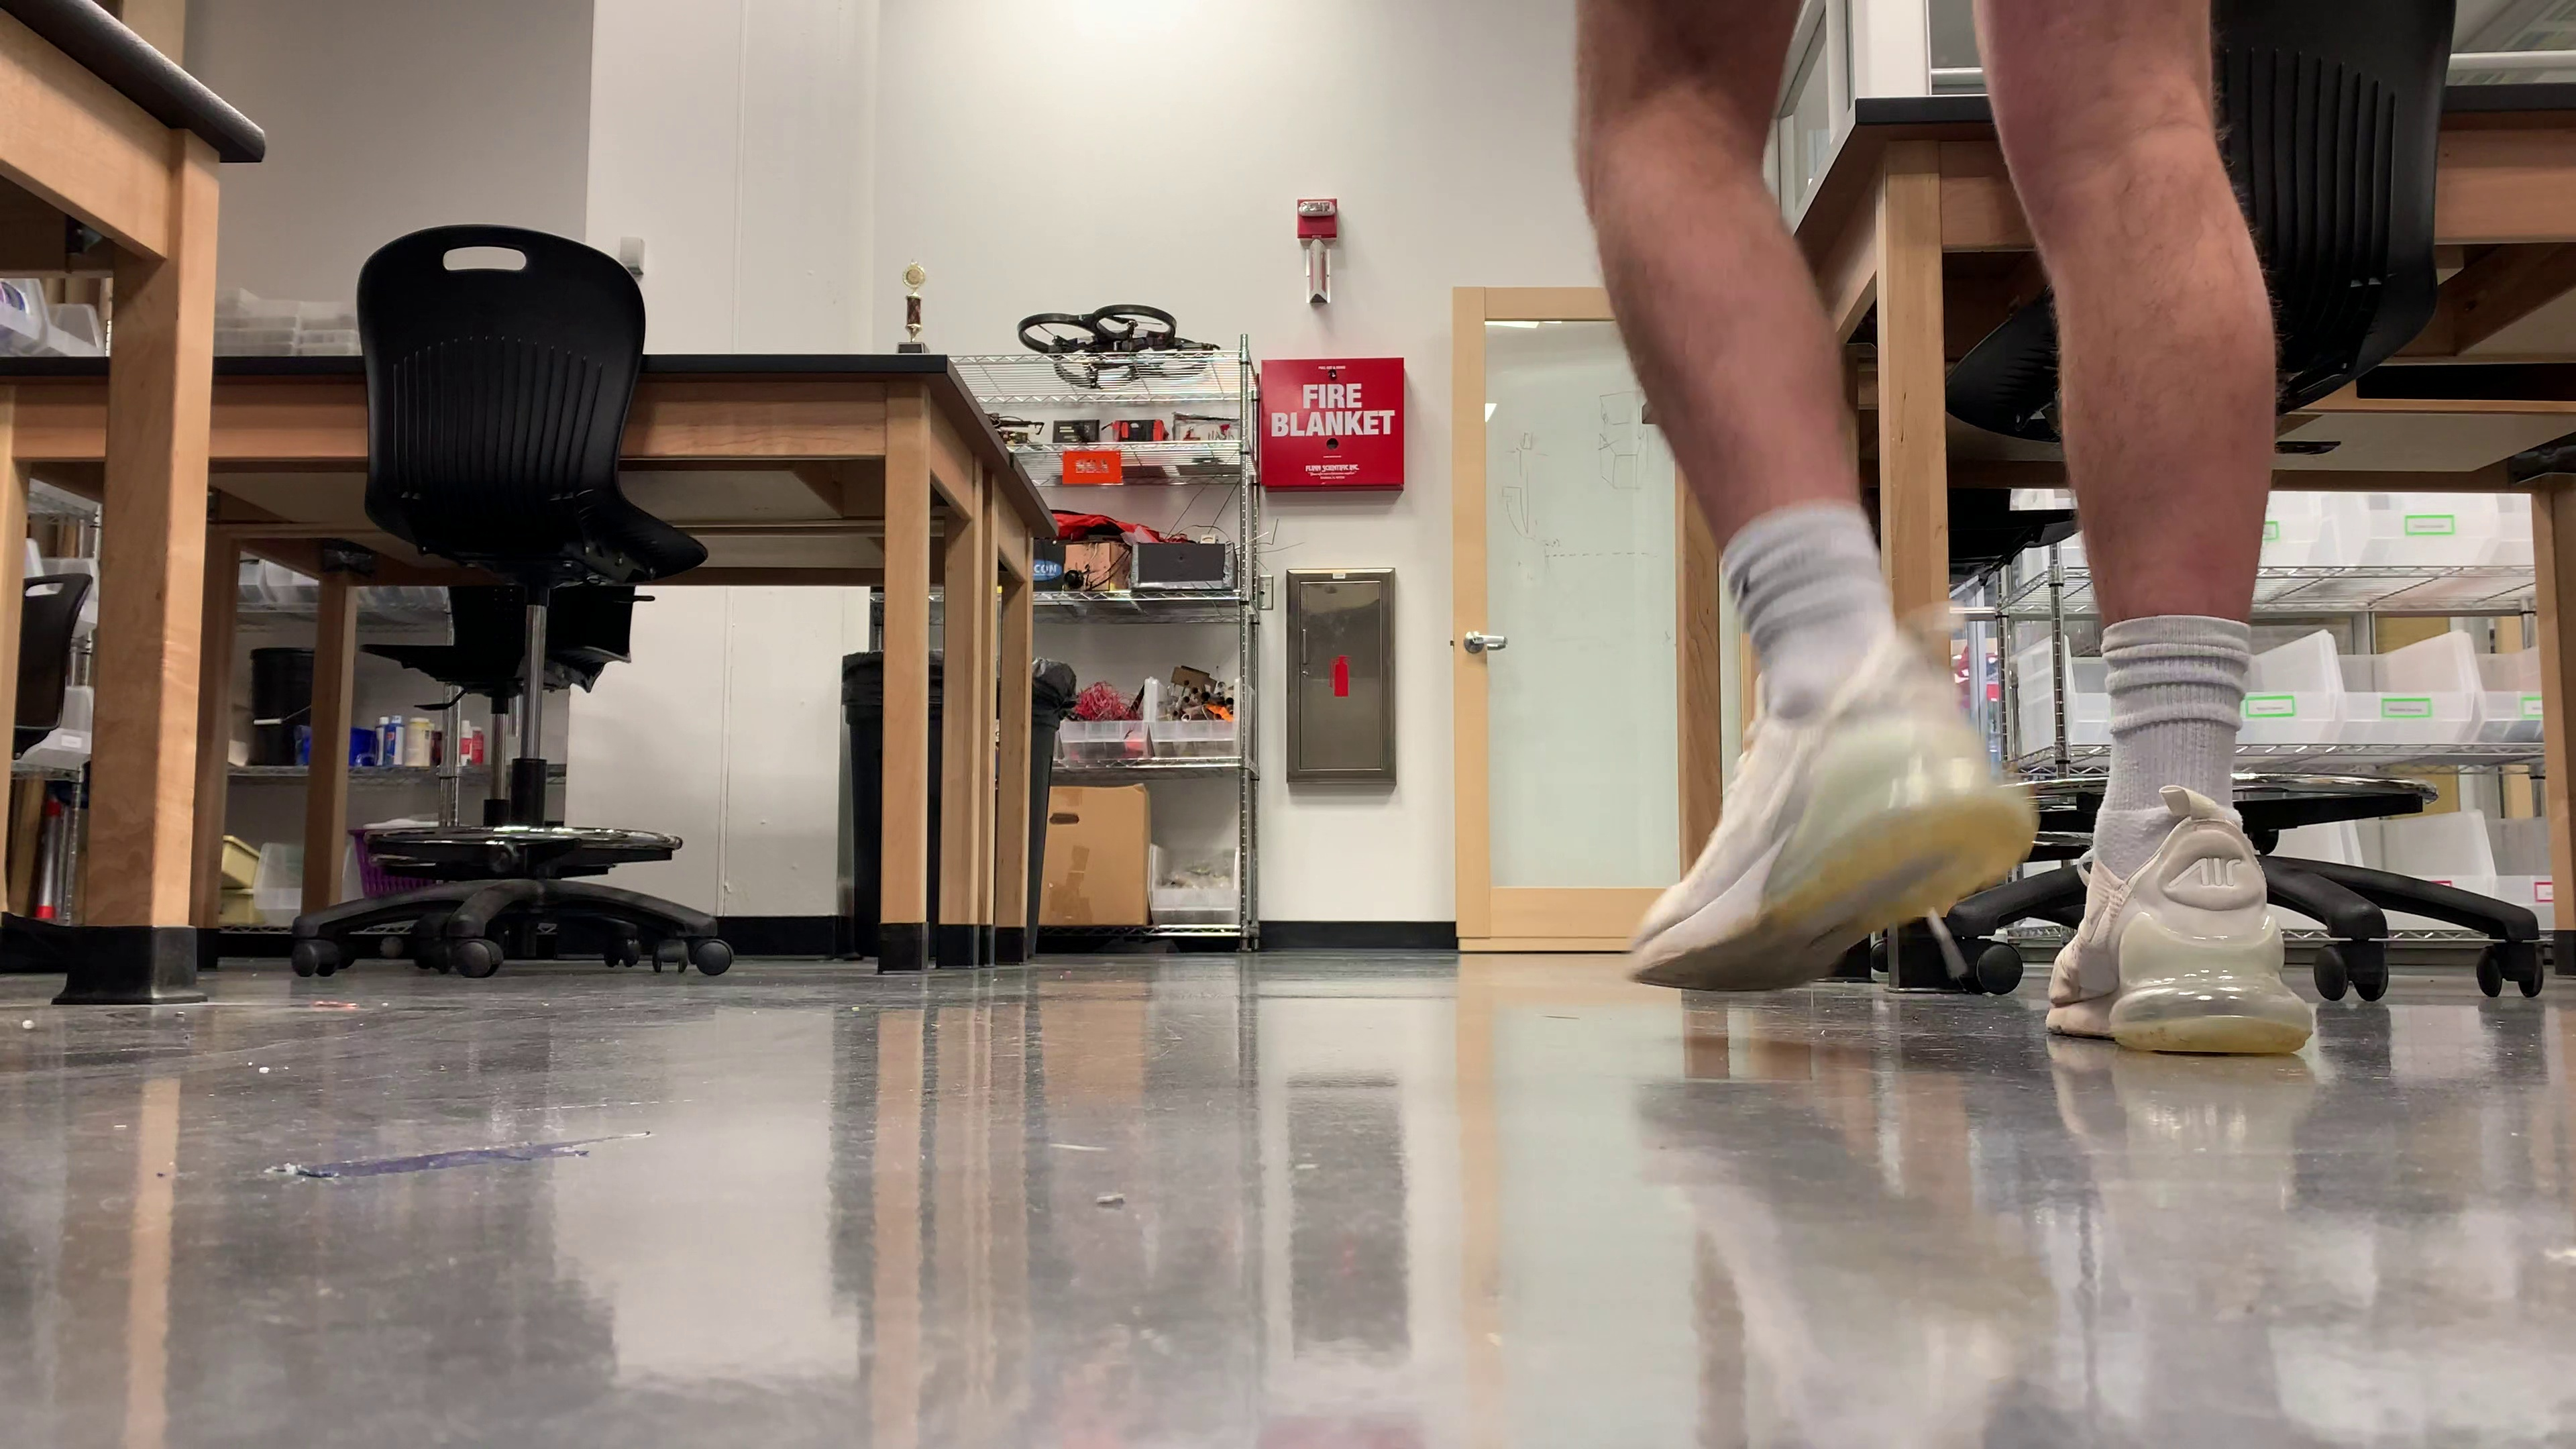shoe: (1628, 630, 2036, 991), (2045, 819, 2312, 1053)
